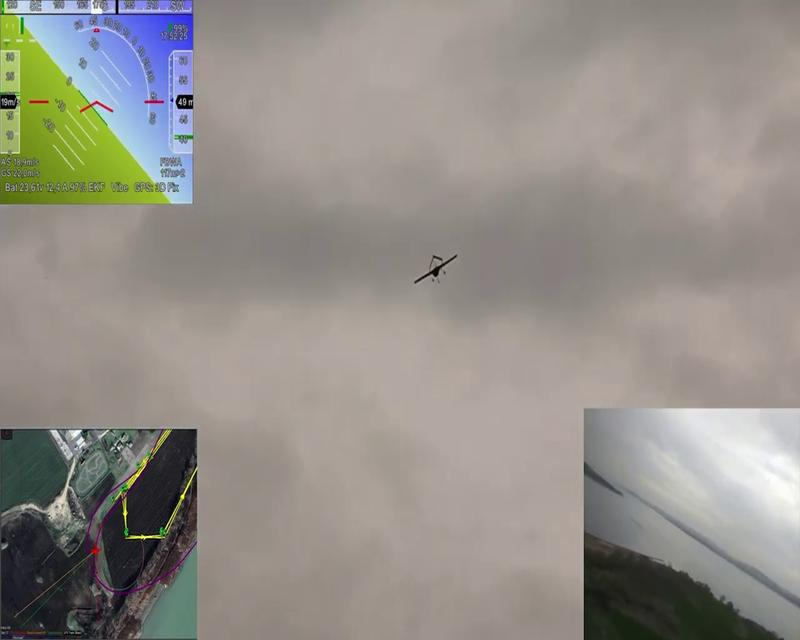UAV: (413, 254, 458, 284)
